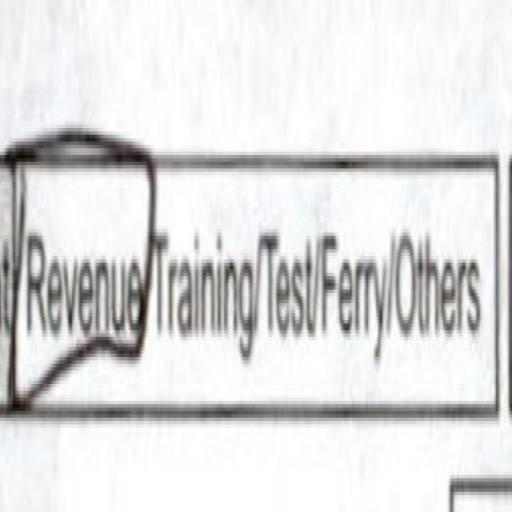check: (11, 112, 155, 482)
